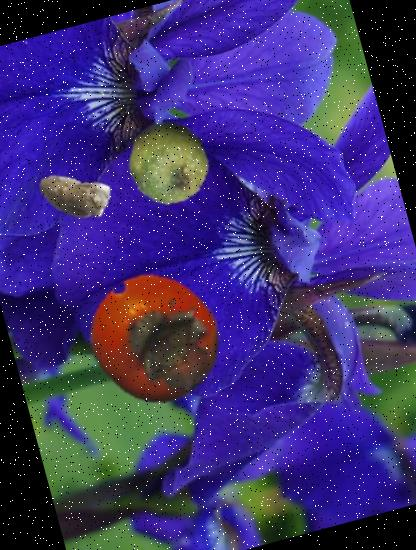Ginger: (29, 150, 120, 240)
Kaki: (73, 257, 236, 420)
Limes: (119, 112, 221, 214)
